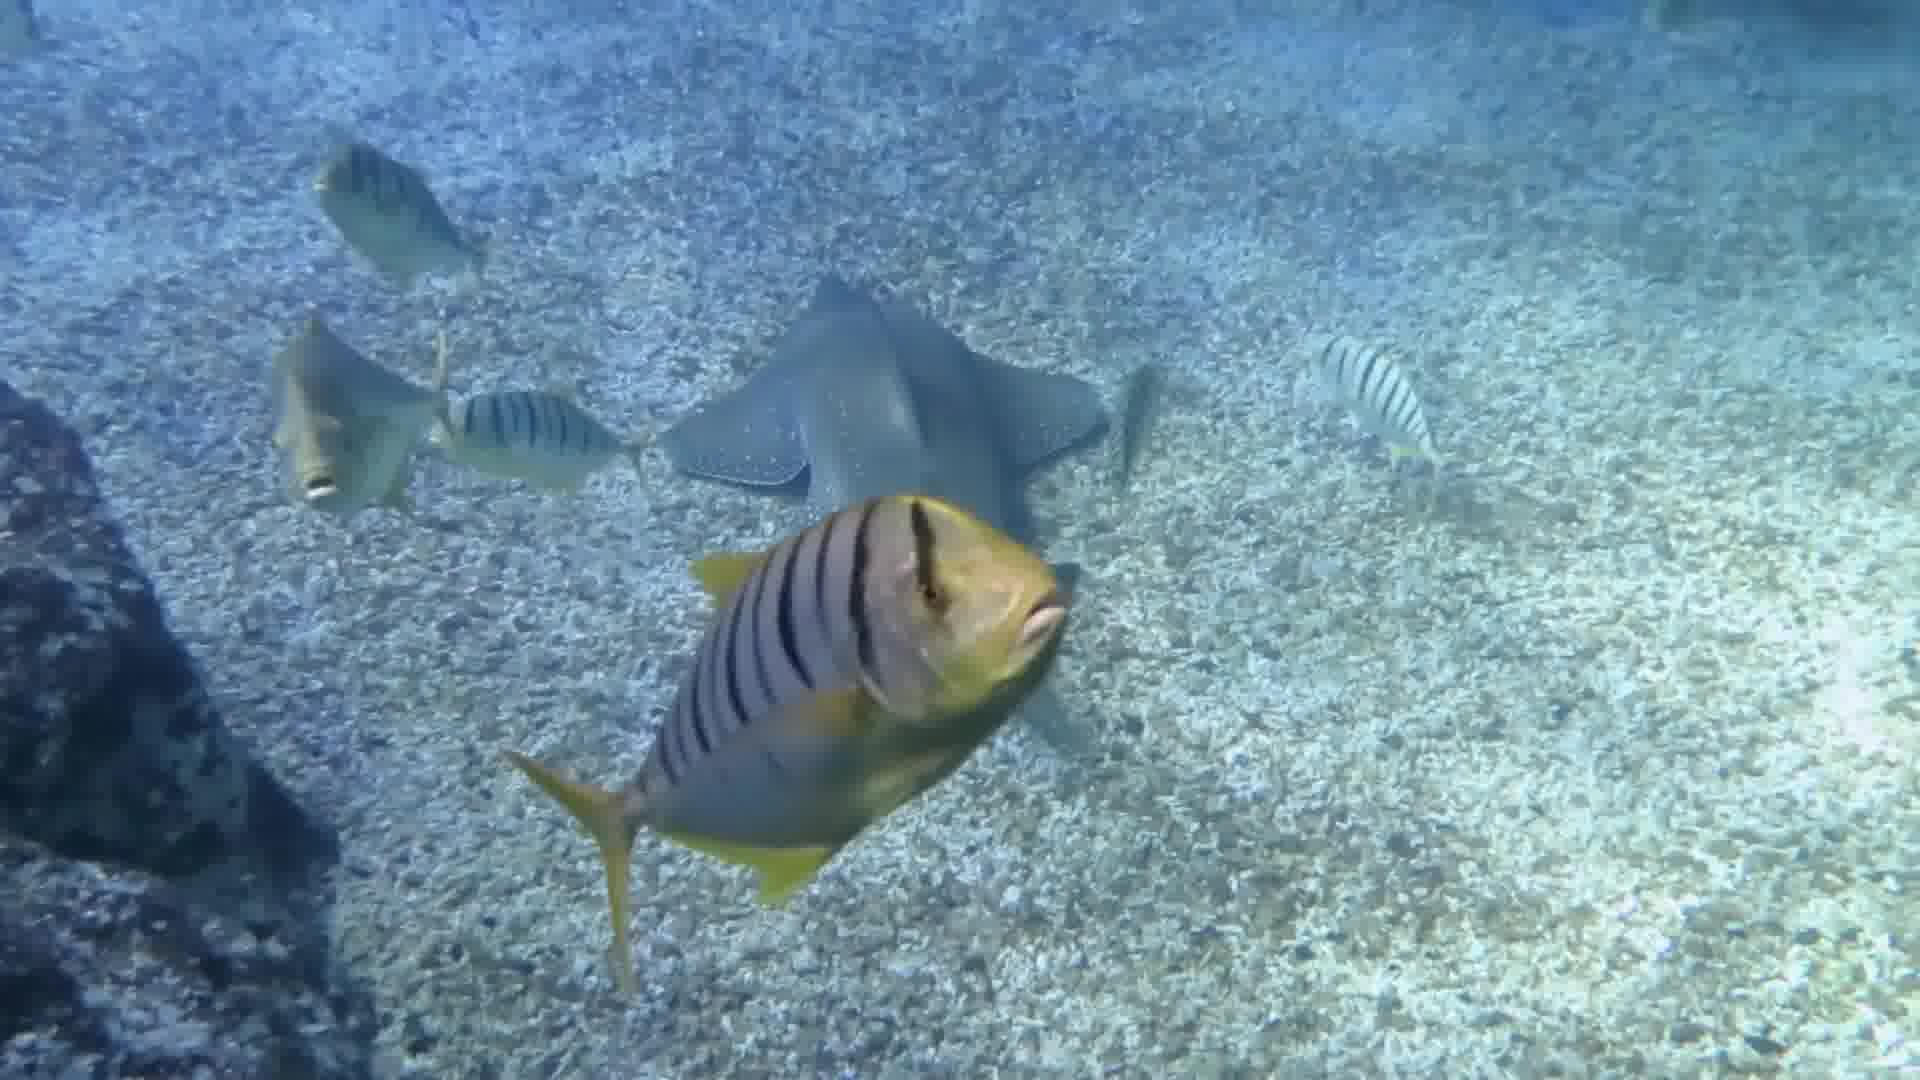Rhychobatus djiddensis: (657, 260, 1139, 512)
